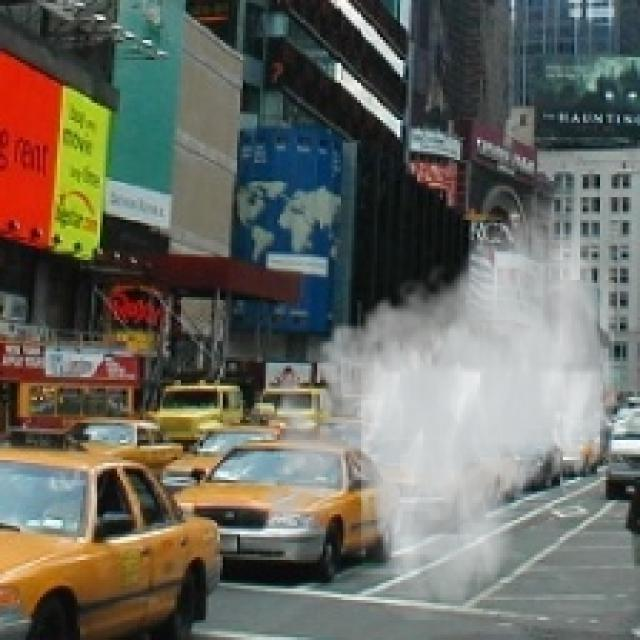Smoke: (252, 195, 614, 620)
